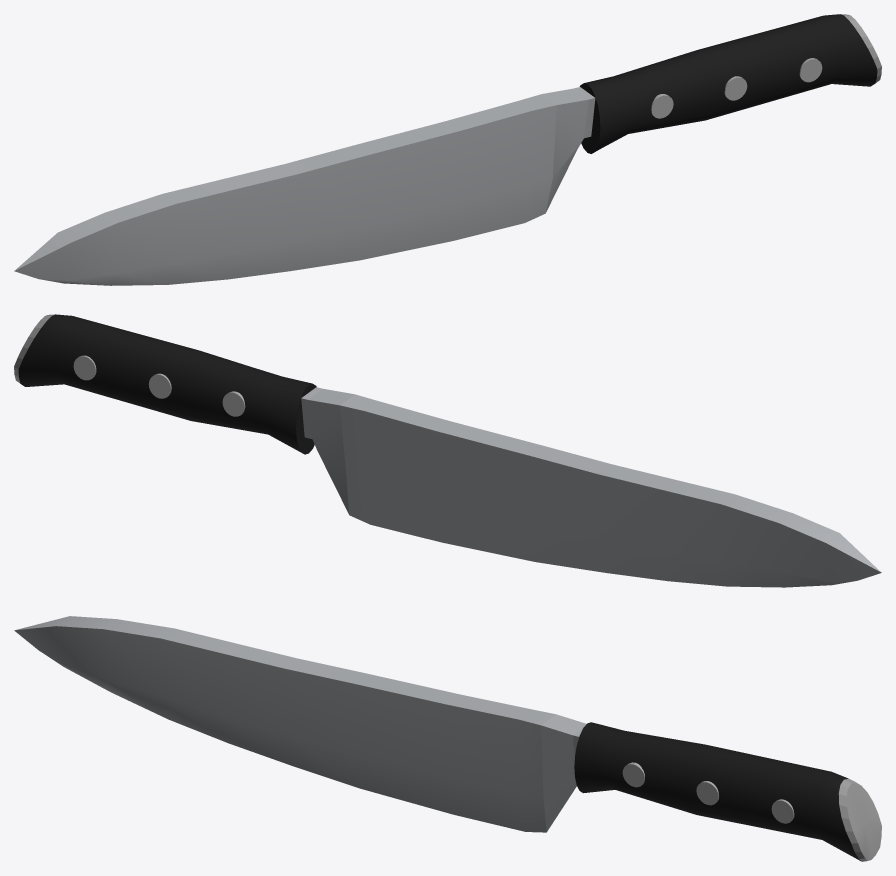
File: Knife.fbx
The picture shows the model from 3 angles, top to bottom: view 1: azimuth 30°, elevation 25°; view 2: azimuth 150°, elevation 25°; view 3: azimuth 330°, elevation 25°; orthographic projection.
Parts seen in each view (by area): view 1: pCube11; view 2: pCube11; view 3: pCube11.
Part boxes in pixels (<box>): pCube11: <box>14,14,881,285</box>; pCube11: <box>14,314,881,587</box>; pCube11: <box>14,616,881,861</box>.
Bounding box in the file's own units: 34.76 × 5.16 × 2.06.
